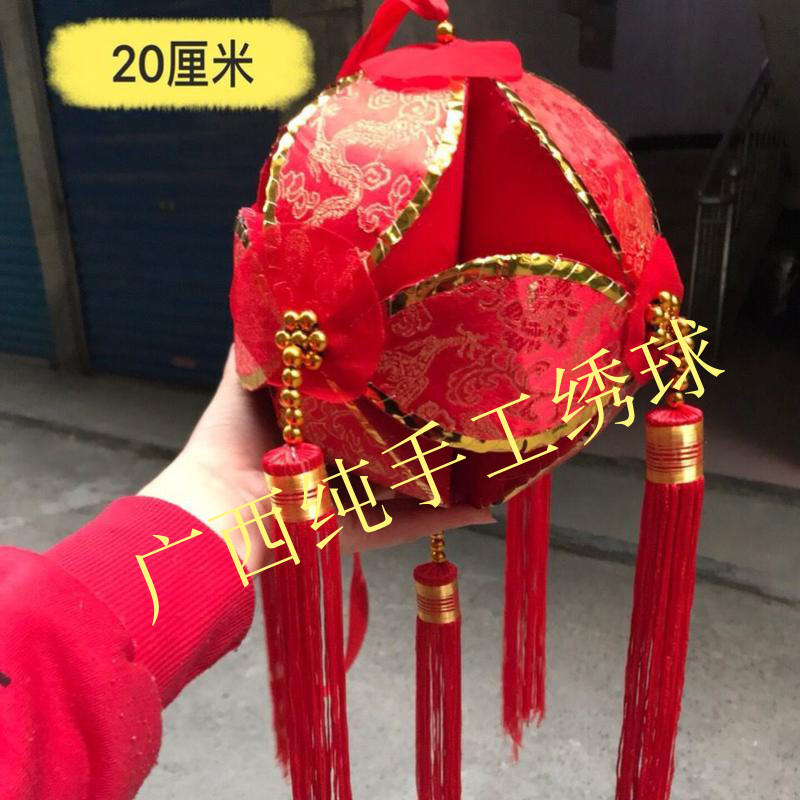xiuqiu: (219, 37, 674, 505)
